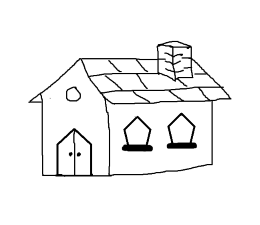chimney: (155, 41, 192, 80)
door: (51, 123, 96, 180)
open_window: (166, 113, 197, 150), (122, 116, 153, 152)
roof: (28, 52, 236, 108)
wall: (105, 97, 213, 181)
